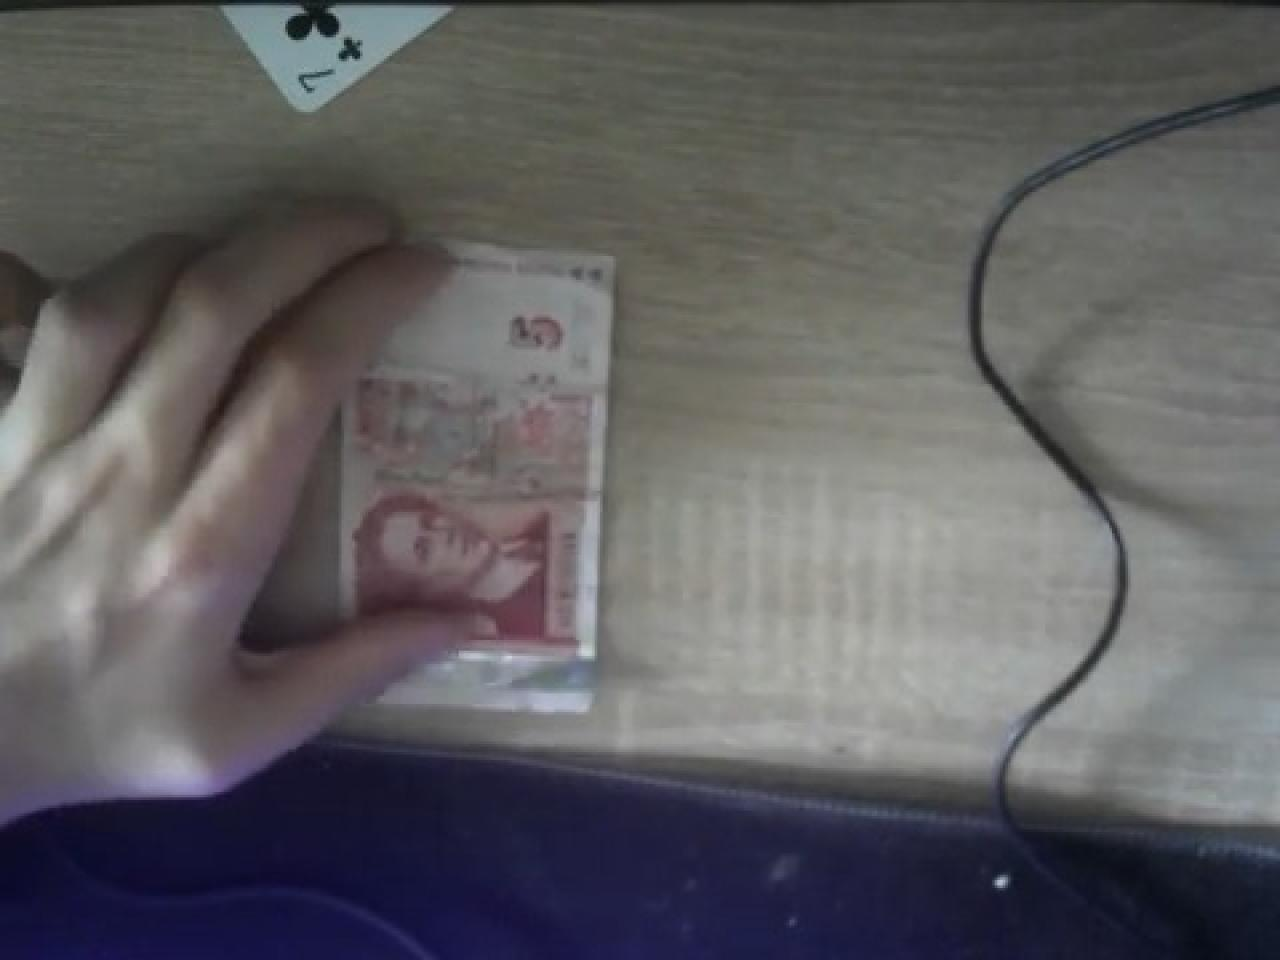5leva: (282, 237, 621, 712)
